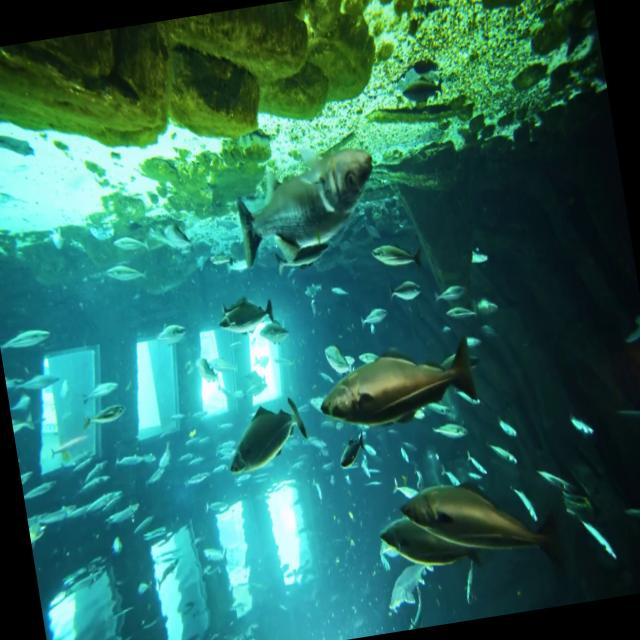fish: (398, 469, 572, 598), (227, 140, 385, 276), (314, 342, 478, 436), (375, 506, 488, 590), (222, 395, 314, 475), (217, 294, 281, 336)
